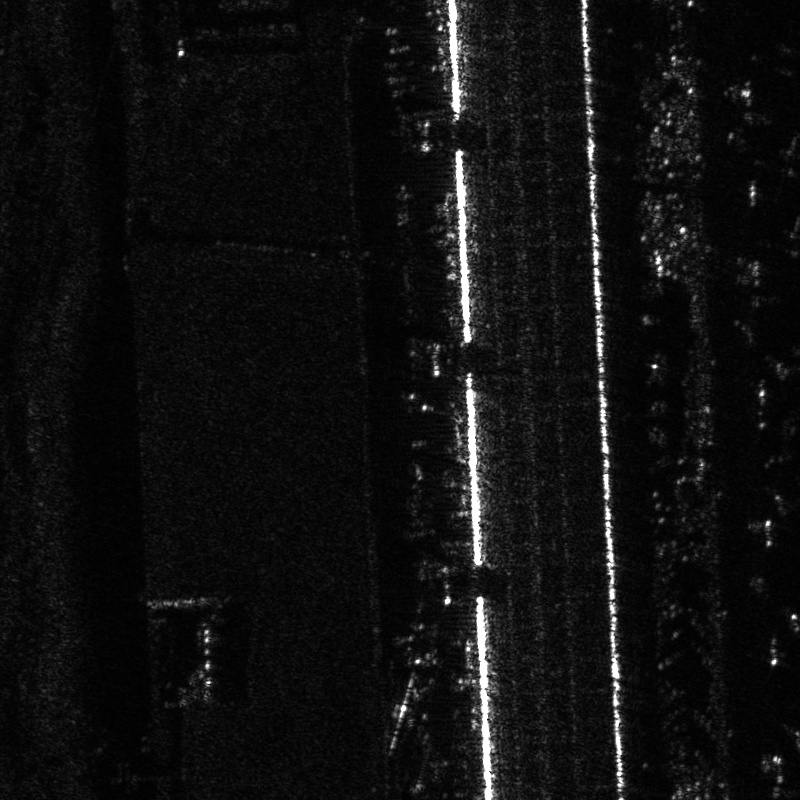A320/321: (750, 132, 799, 185)
